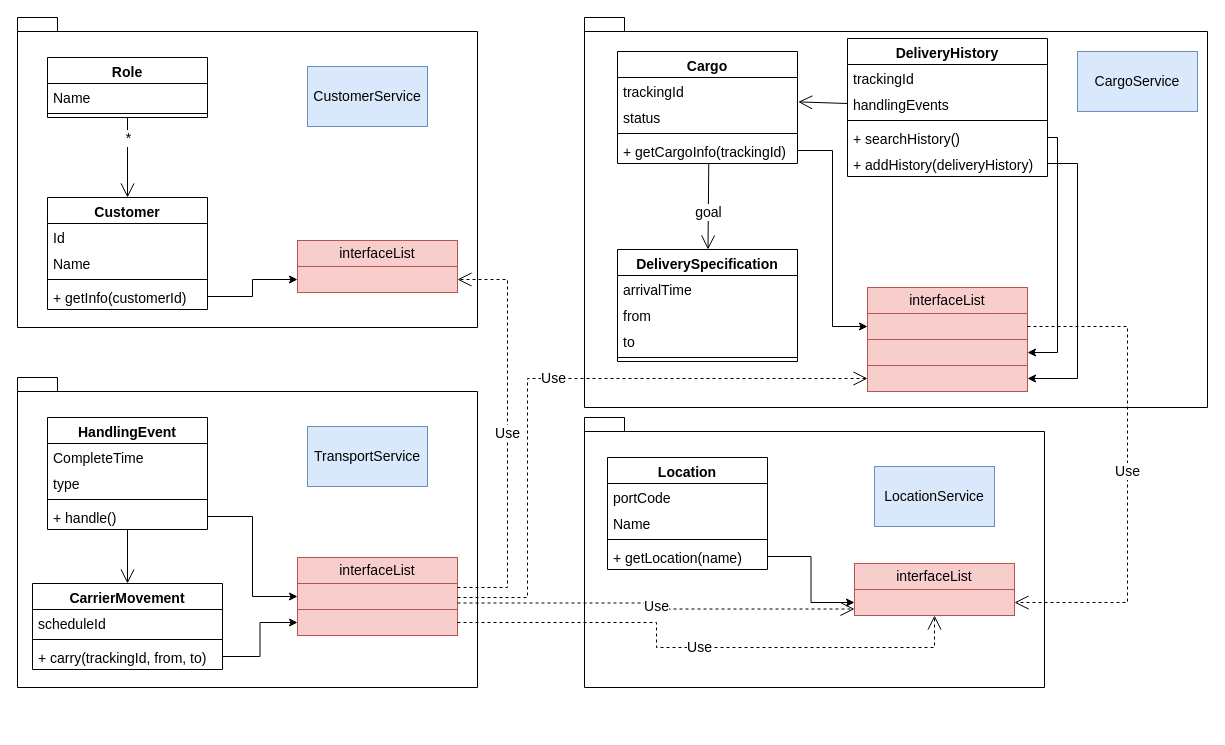
Some shapes in this 1225 by 745 pixel diagram are drawn without their labels. The centre of each missing label's shape, as x and y in pixels:
/cargo/info: the point at 947,326
/customer/info: the point at 377,279
/history/add: the point at 947,378
/history/search: the point at 947,352
/location/getByName: the point at 934,602
/transport/carry: the point at 377,622
/transport/handle: the point at 377,596
